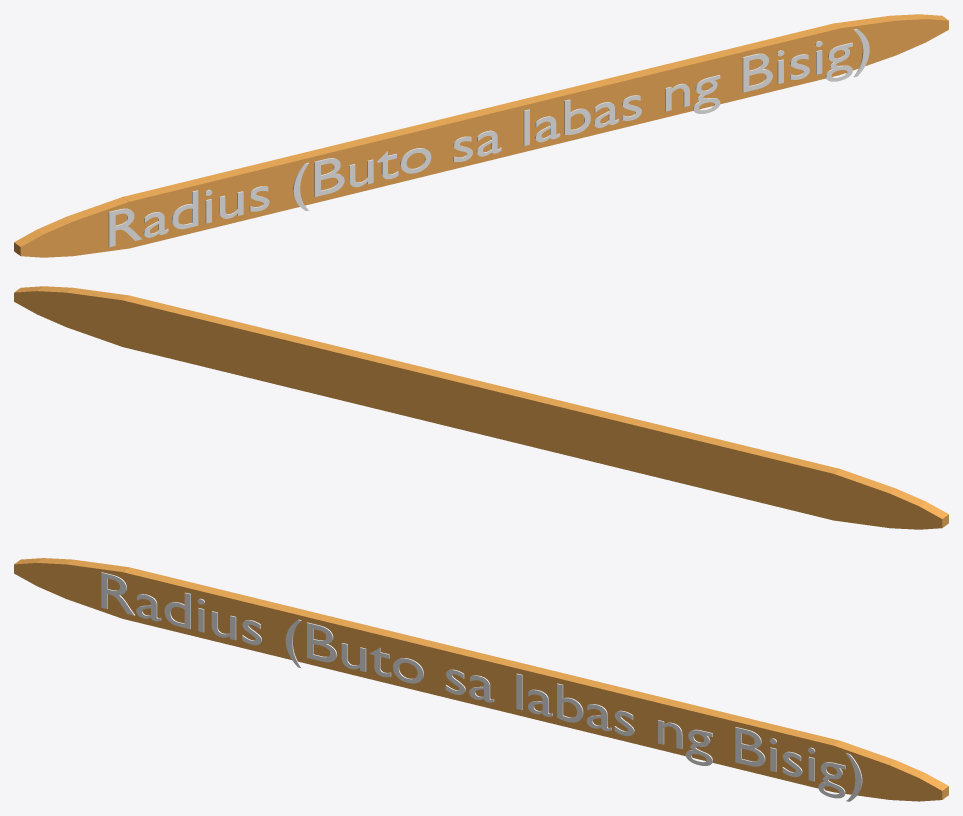
The model's file is txtRadius.fbx.
3 renders of one model, top to bottom at view 1: azimuth 30°, elevation 25°; view 2: azimuth 150°, elevation 25°; view 3: azimuth 330°, elevation 25°, orthographic.
Visible parts, largest first — view 1: TagContainer.050, Text.051; view 2: TagContainer.050; view 3: TagContainer.050, Text.051.
Part boxes in pixels (x1=…): TagContainer.050: x1=14, y1=14, x2=948, y2=257; Text.051: x1=108, y1=29, x2=869, y2=247; TagContainer.050: x1=14, y1=286, x2=948, y2=529; TagContainer.050: x1=14, y1=558, x2=948, y2=801; Text.051: x1=101, y1=572, x2=862, y2=801.
Bounding box in the file's own units: 859 × 45.81 × 11.79.
